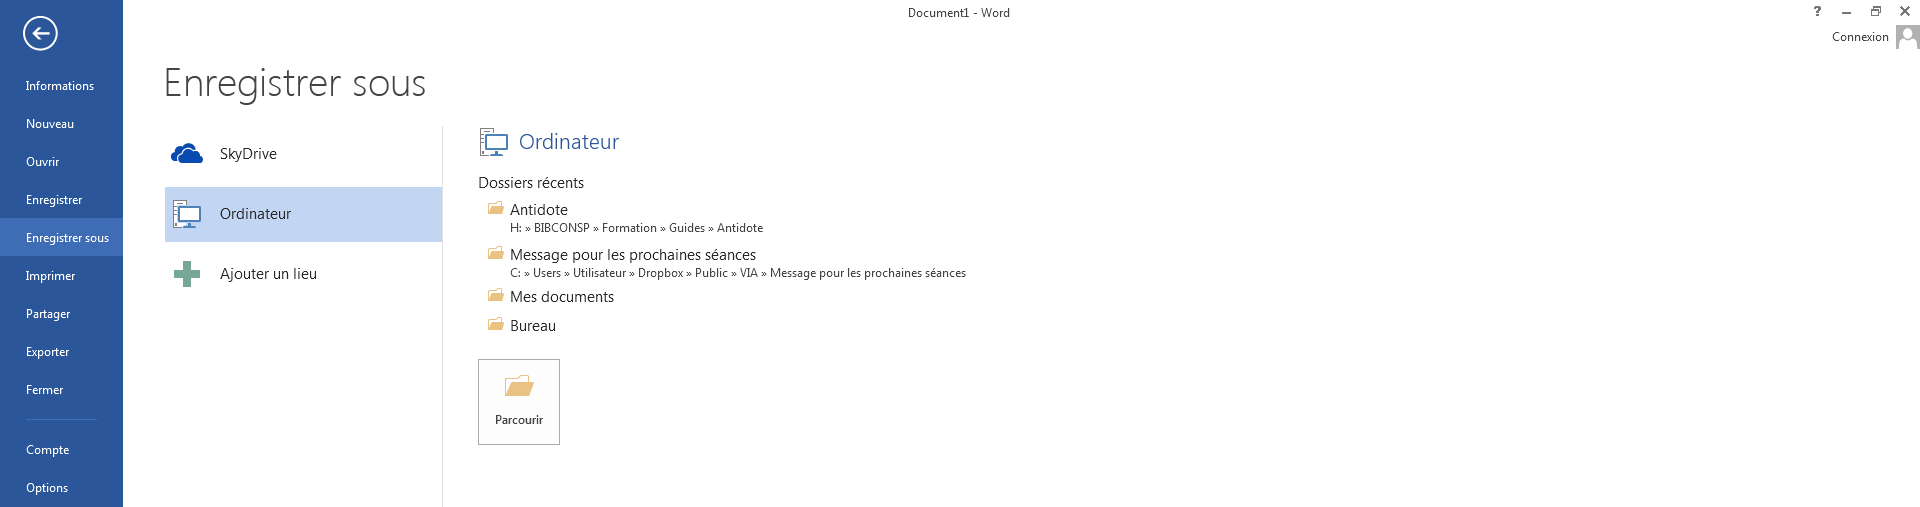texte: (167, 69, 340, 105), (867, 255, 921, 284), (520, 133, 620, 149), (354, 76, 425, 96), (23, 16, 58, 51), (927, 255, 966, 284), (629, 249, 700, 263), (511, 249, 568, 263), (541, 291, 613, 302), (220, 208, 291, 219), (220, 148, 277, 162), (480, 129, 508, 156), (27, 195, 82, 207), (27, 233, 82, 245), (174, 261, 200, 287), (220, 268, 269, 282), (509, 205, 568, 216), (639, 268, 692, 280), (171, 143, 203, 163), (504, 375, 534, 396), (696, 268, 767, 277), (26, 271, 75, 283), (479, 178, 533, 189), (26, 81, 94, 89), (705, 249, 756, 260), (771, 268, 816, 280), (27, 309, 70, 321), (574, 268, 636, 277), (909, 9, 969, 17), (538, 178, 584, 189), (27, 483, 69, 495), (511, 320, 555, 331), (1833, 32, 1888, 40), (535, 223, 589, 231), (602, 223, 656, 231), (27, 119, 73, 129), (173, 200, 187, 228), (496, 415, 542, 424), (718, 223, 763, 231), (743, 255, 756, 284), (27, 385, 62, 394), (573, 252, 602, 263), (534, 268, 571, 277), (27, 157, 59, 167), (670, 223, 705, 231), (511, 291, 538, 302), (47, 446, 69, 457), (294, 268, 316, 279), (981, 9, 1009, 17), (820, 271, 844, 280), (489, 201, 504, 214), (489, 288, 504, 301), (489, 246, 504, 258), (489, 317, 504, 329), (564, 255, 571, 284), (629, 255, 636, 284), (684, 255, 691, 284), (731, 255, 737, 284), (511, 223, 531, 231), (609, 249, 624, 260), (511, 268, 530, 277), (763, 255, 768, 284), (86, 236, 109, 242), (274, 271, 288, 279), (849, 268, 861, 277), (27, 347, 34, 356), (593, 227, 599, 231), (660, 227, 666, 231), (710, 227, 713, 231), (1816, 13, 1820, 16), (973, 13, 977, 13)
